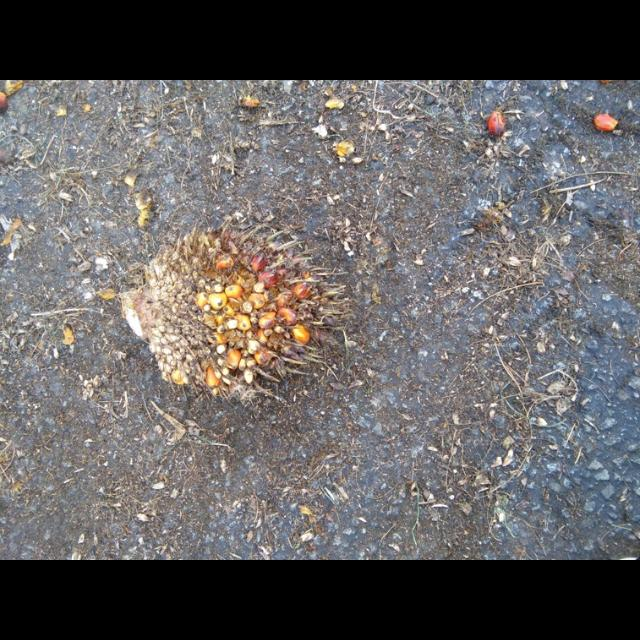Overripe: (120, 228, 352, 396)
